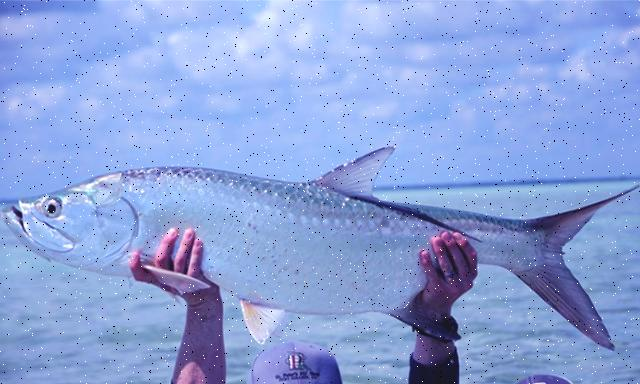Mulut: (4, 176, 46, 258)
Sirip Anal: (389, 282, 467, 350)
Sirip Dada: (143, 260, 215, 308)
Sirip Ekor: (518, 178, 640, 354)
Sirip Perut: (237, 292, 289, 350)
Sirip Punggung: (307, 140, 403, 204)
